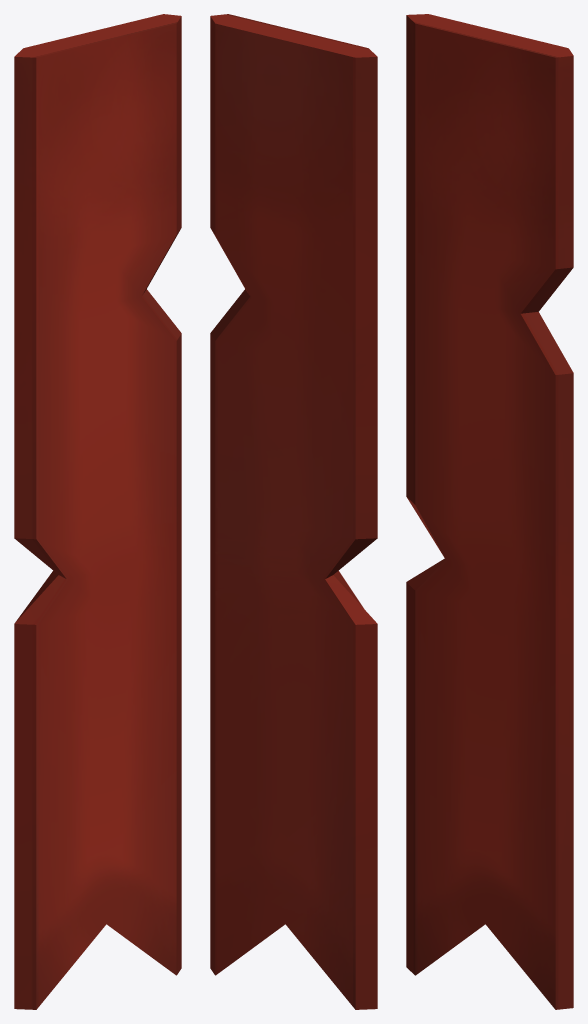
File: scarf.fbx
The picture shows the model from 3 angles, left to right: view 1: azimuth 30°, elevation 25°; view 2: azimuth 150°, elevation 25°; view 3: azimuth 330°, elevation 25°; orthographic projection.
Visible parts, largest first — view 1: Cube; view 2: Cube; view 3: Cube.
Part boxes in pixels (<box>): Cube: <box>14,14,181,1009</box>; Cube: <box>210,14,377,1009</box>; Cube: <box>406,14,573,1009</box>.
Bounding box in the file's own units: 30.54 × 4.12 × 166.
